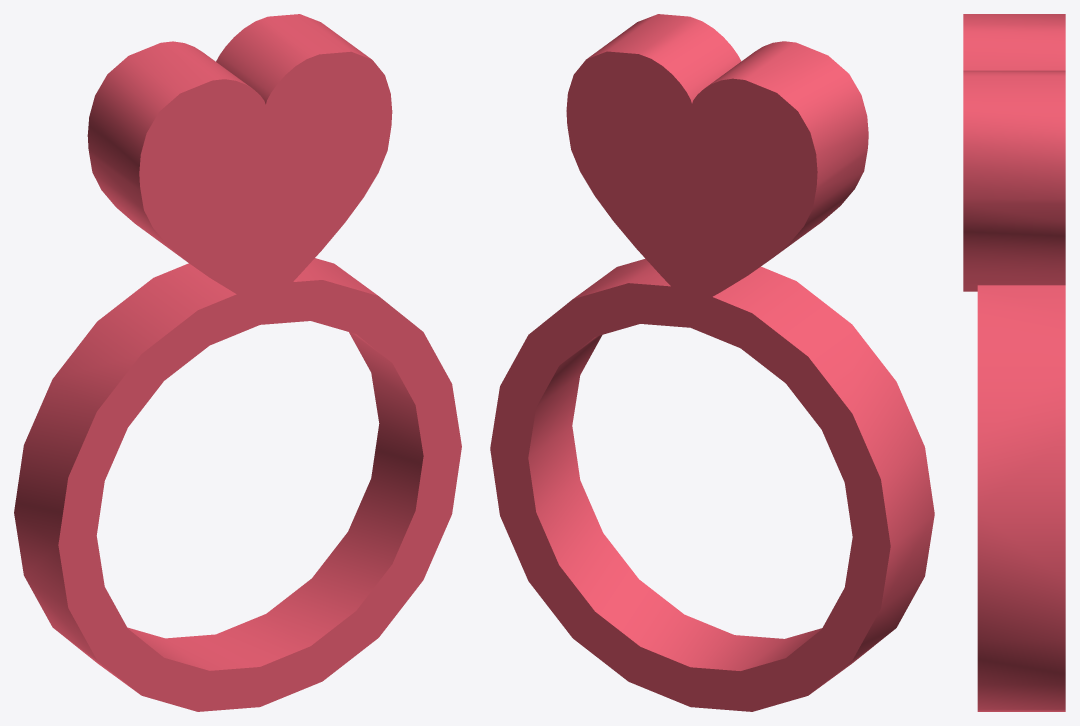
The picture shows the model from 3 angles, left to right: view 1: azimuth 30°, elevation 25°; view 2: azimuth 150°, elevation 25°; view 3: azimuth 270°, elevation 25°; orthographic projection.
Parts seen in each view (by area): view 1: Object_2; view 2: Object_2; view 3: Object_2.
Boxes of the visible parts, bbox=[...] form: Object_2: bbox=[14, 14, 461, 711]; Object_2: bbox=[490, 14, 934, 711]; Object_2: bbox=[963, 14, 1065, 711].
Size of the model in its own units: 21 by 32.08 by 4.65.
